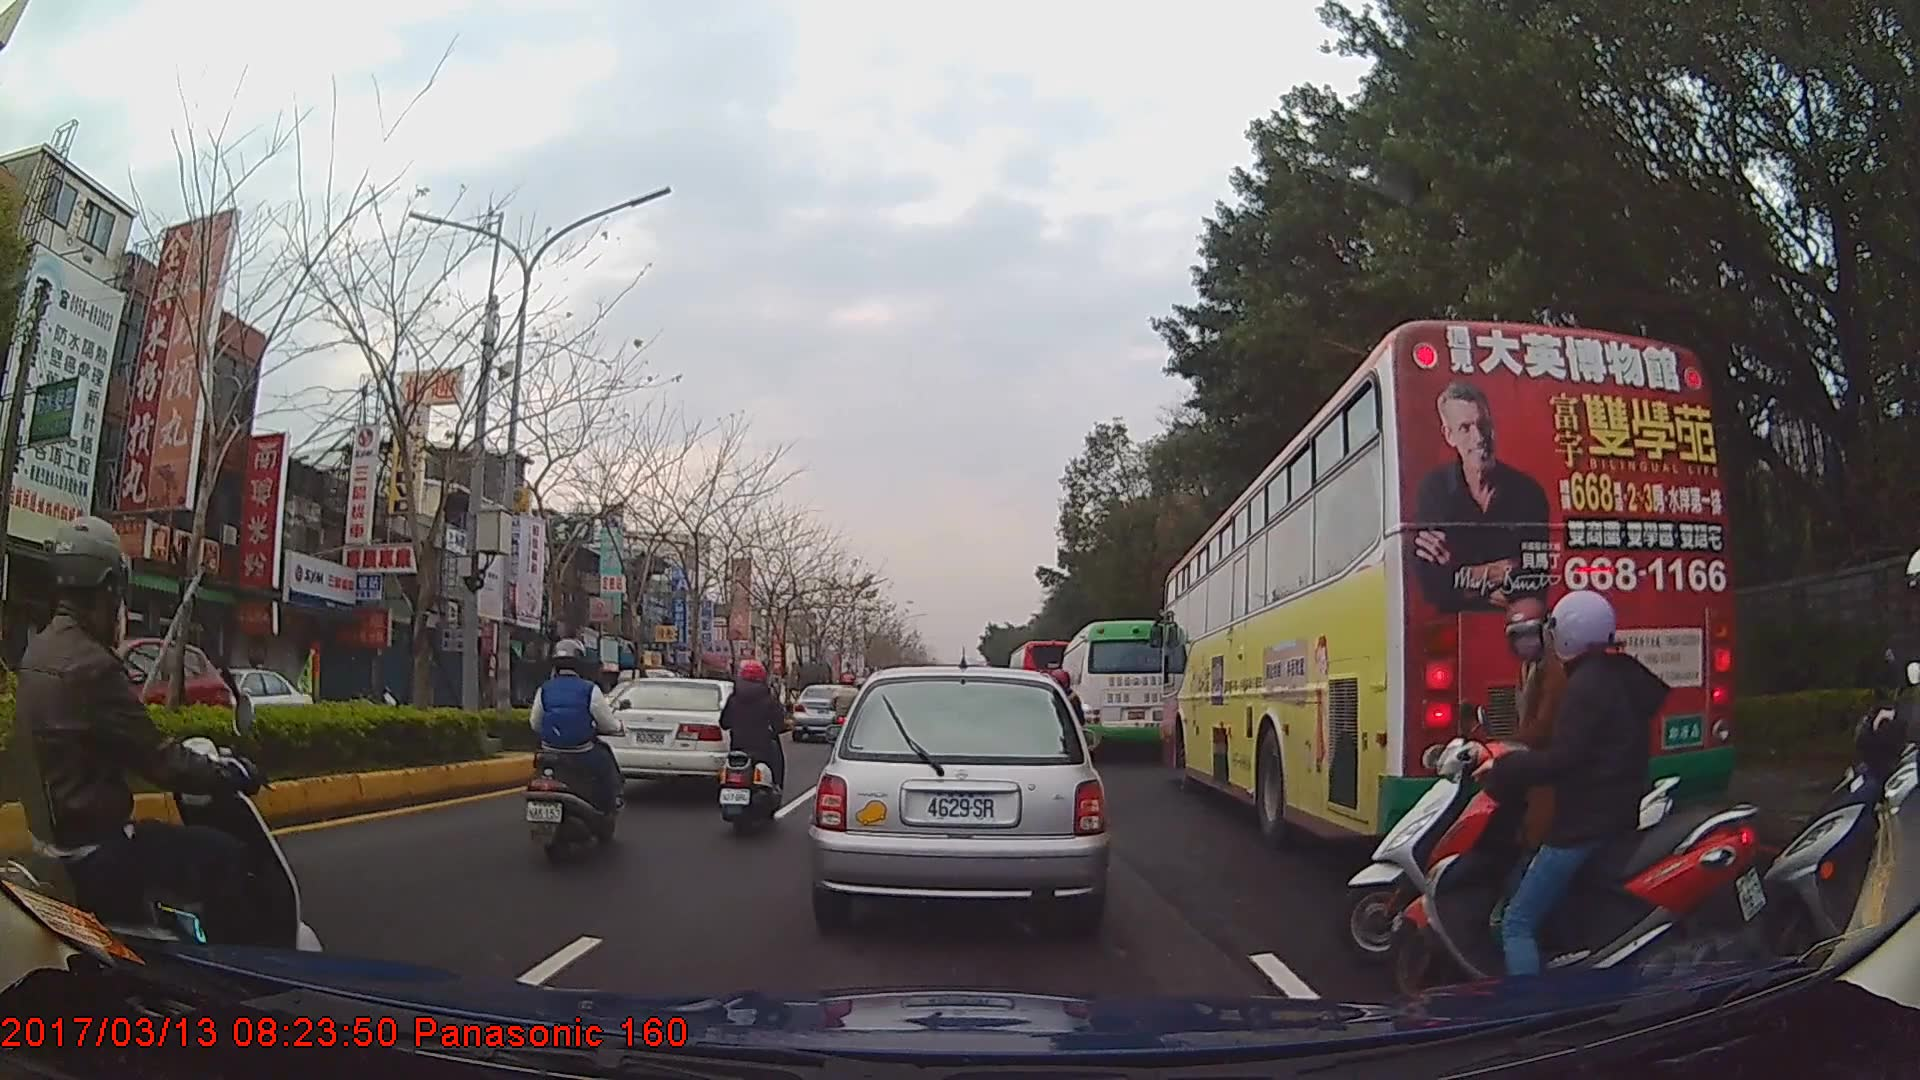rider: (1391, 585, 1760, 1045), (10, 516, 324, 974), (1328, 599, 1674, 977), (1776, 545, 1920, 977), (524, 636, 629, 864), (718, 659, 787, 839), (835, 672, 867, 757)
vehicle: (1163, 316, 1738, 857), (806, 662, 1106, 928), (14, 634, 229, 762), (590, 676, 777, 804), (1056, 619, 1184, 756), (172, 664, 312, 742), (1005, 639, 1081, 719)
